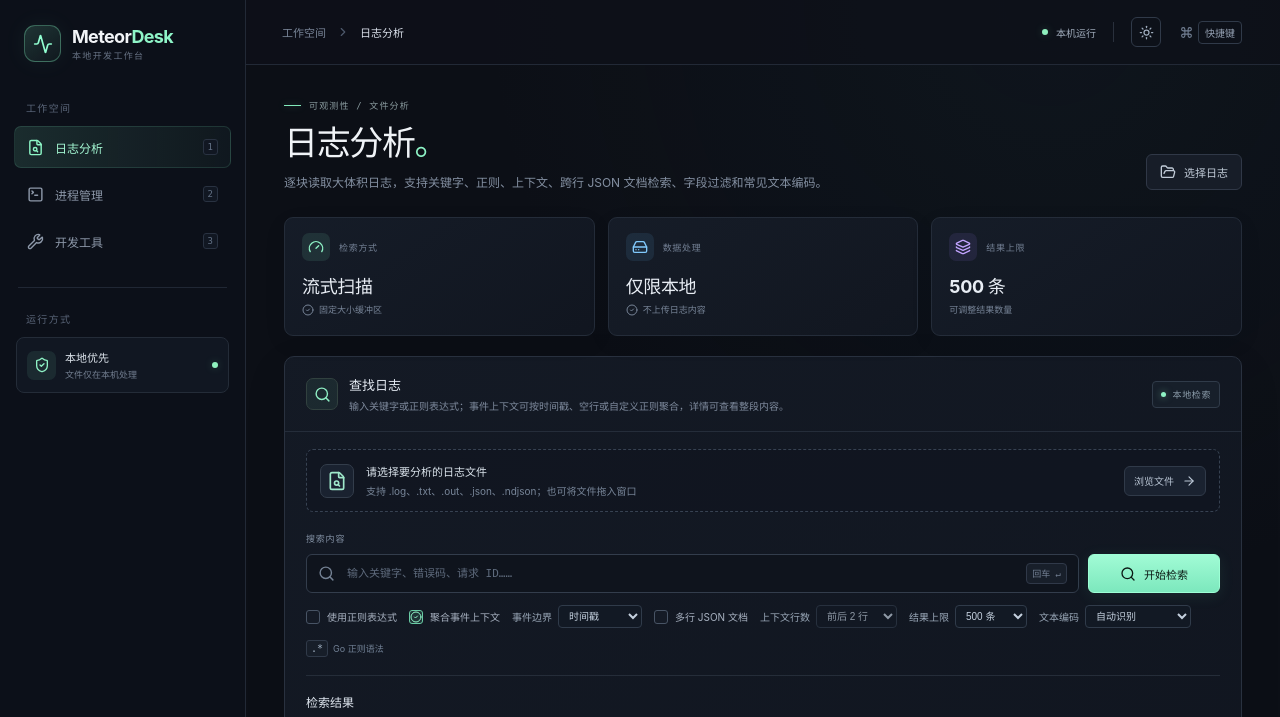
Test case: log search options › filters, sorts and highlights the current results
Click the button "选择日志": (1194, 172) [1146,154,1242,190]
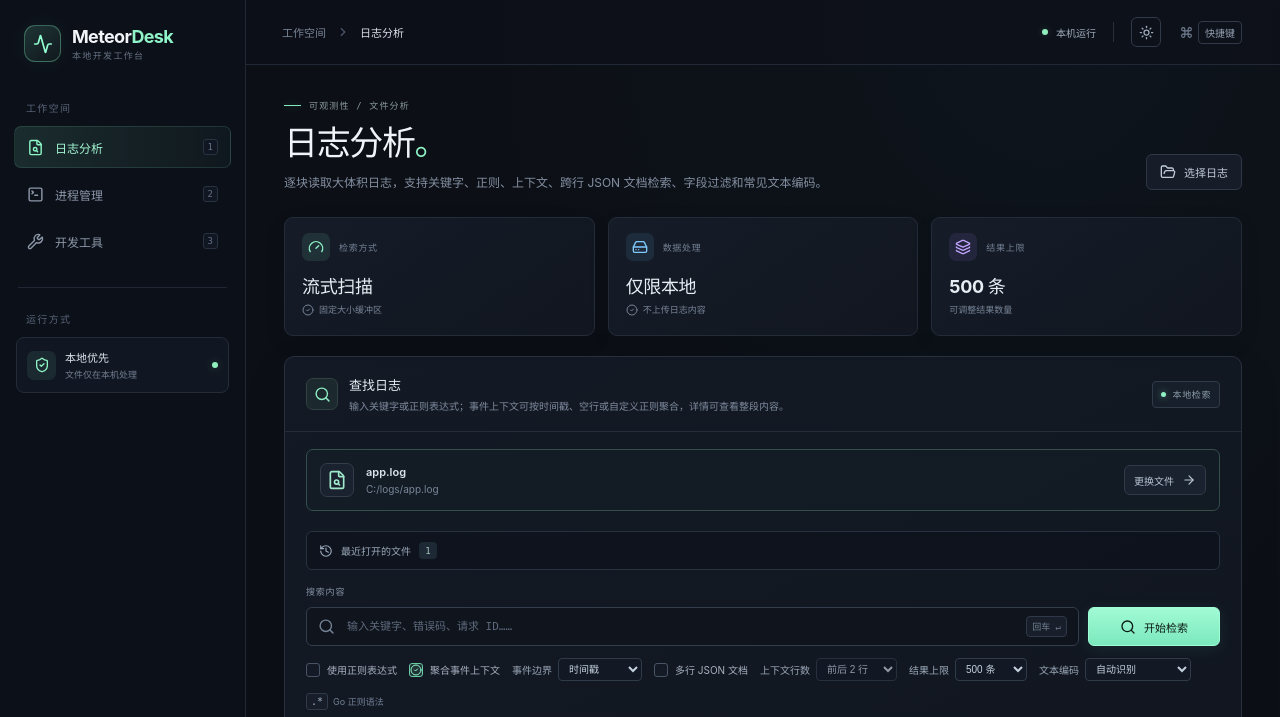
In the field with id "search-query": (681, 627) [345,608,1016,645], type "boom"
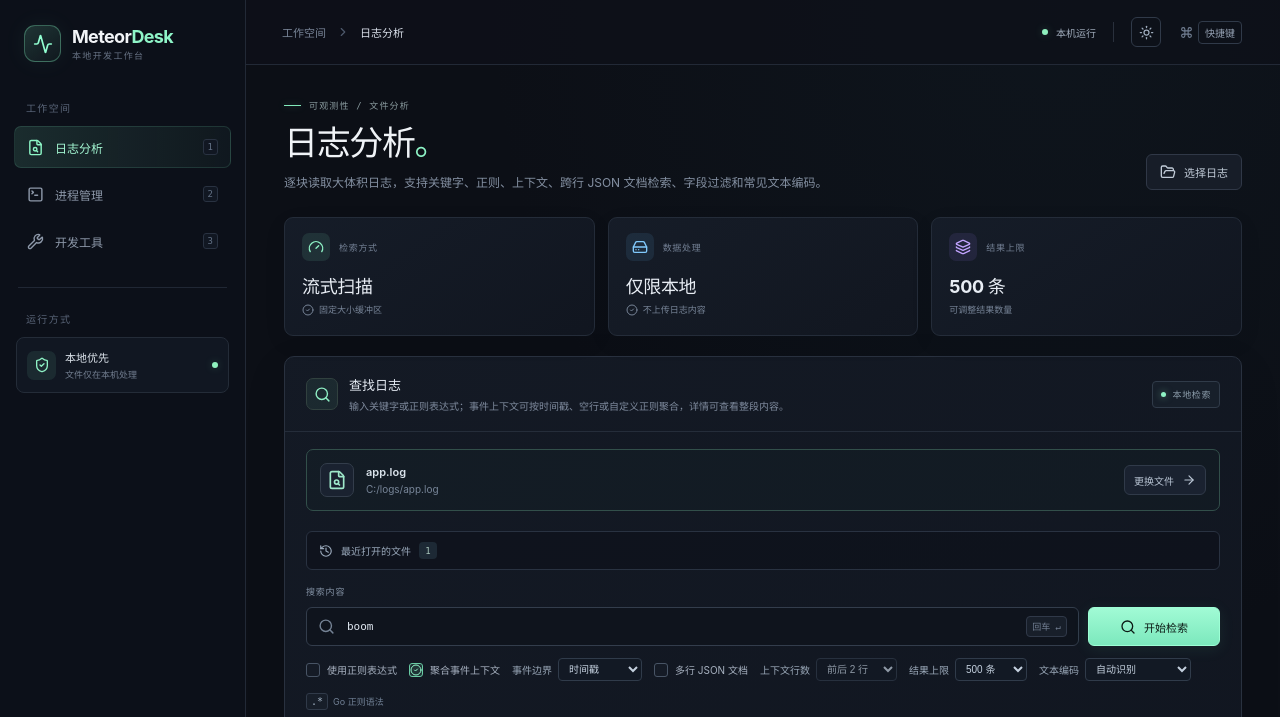
Click the submit button: (1154, 627) [1088,607,1220,646]
(page scrolled)
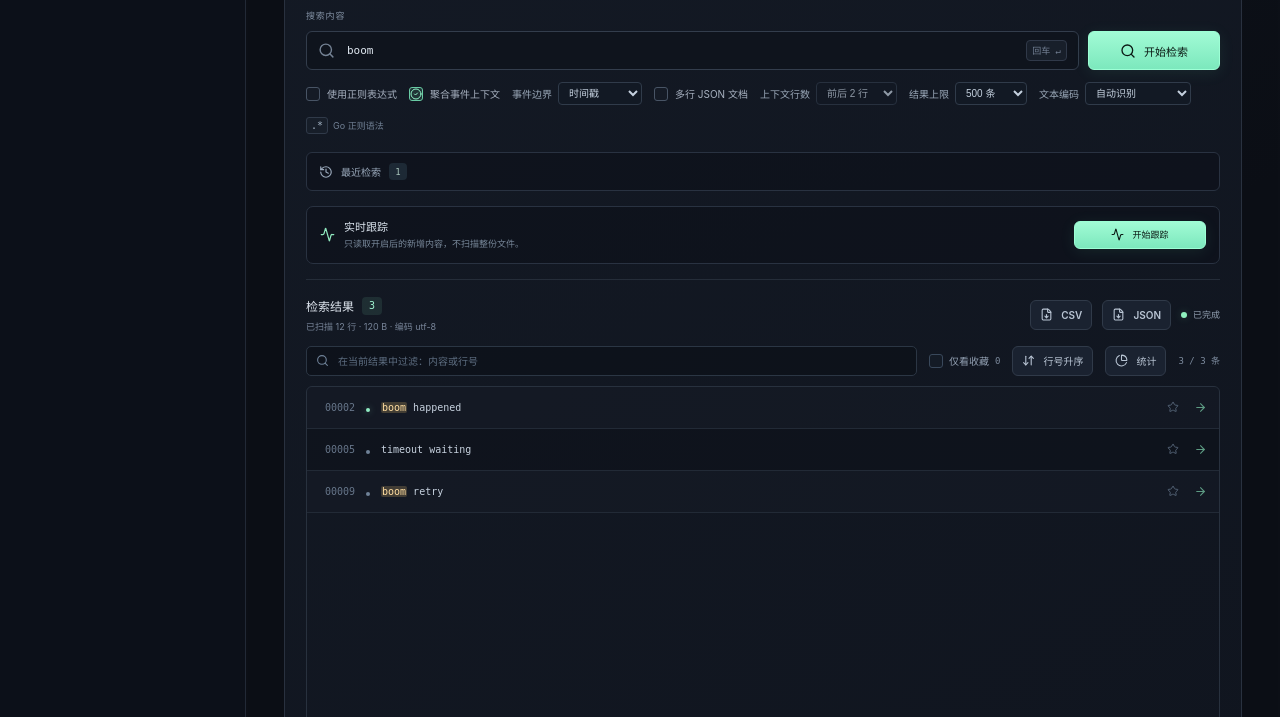
Now the number of buttons with class "result-row" is 3, box [307,386,1219,428]; [307,428,1219,470]; [307,470,1219,512]
Now the text with class "filter-summary" reads "3 / 3 条", box [1178,356,1220,366]
In the field with placeholder "在当前结果中过滤：内容或行号": (622, 360) [336,346,907,374], type "timeout"
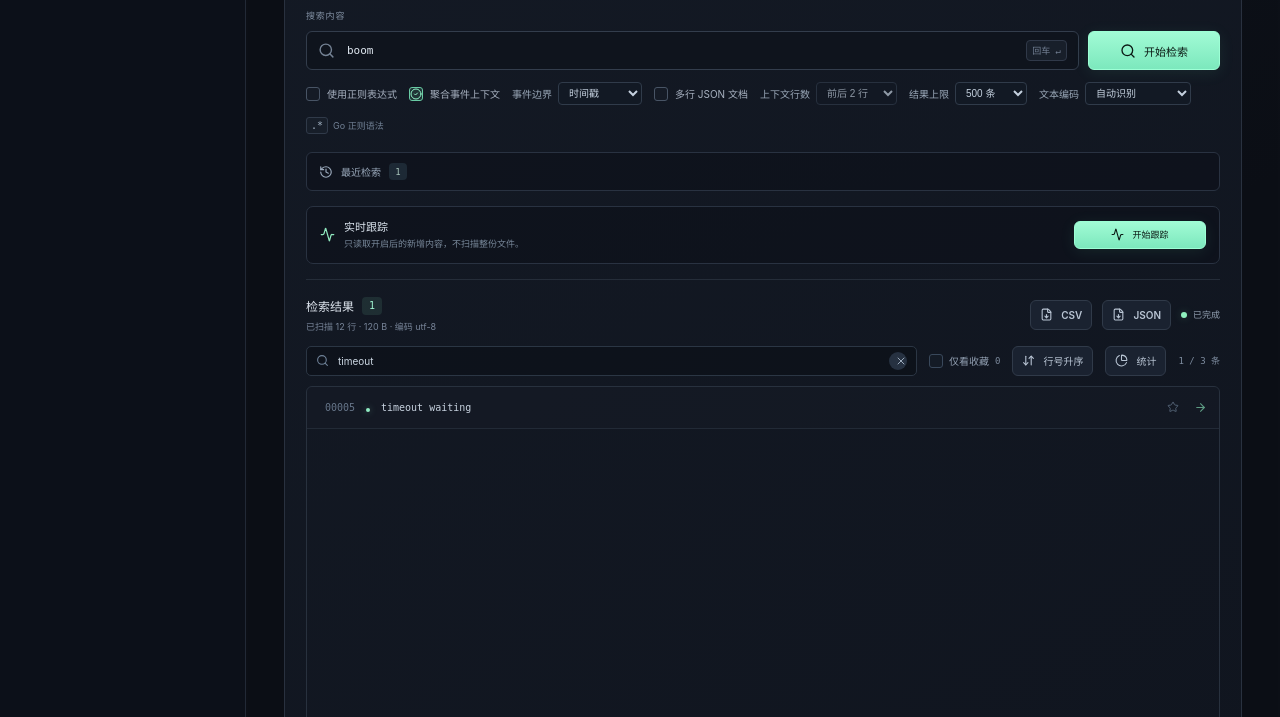
Now the button with class "result-row" shows "timeout waiting", box [307,386,1219,428]
Now the number of buttons with class "result-row" is 1, box [307,386,1219,428]
Now the text with class "filter-summary" reads "1 / 3 条", box [1178,356,1220,366]
Clear the field named "过滤检索结果": (609, 360) [336,346,882,374]
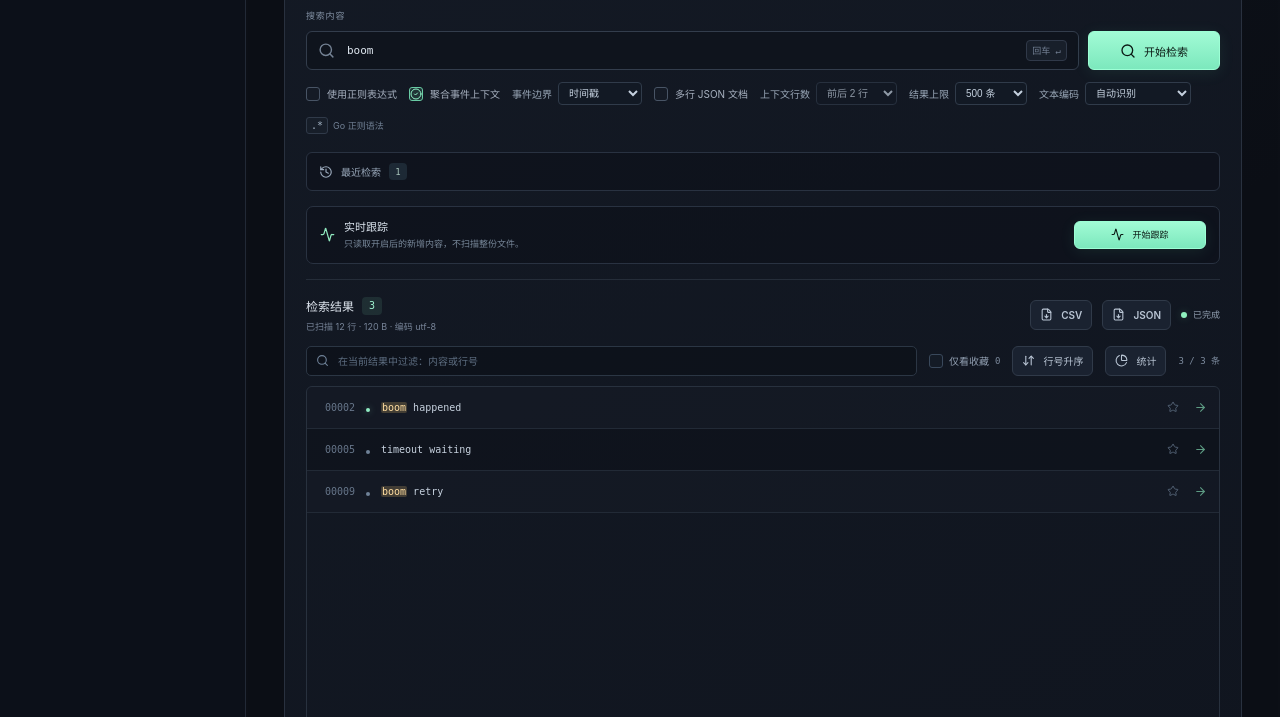
Click the button with class "sort-button": (1053, 360) [1012,346,1094,376]
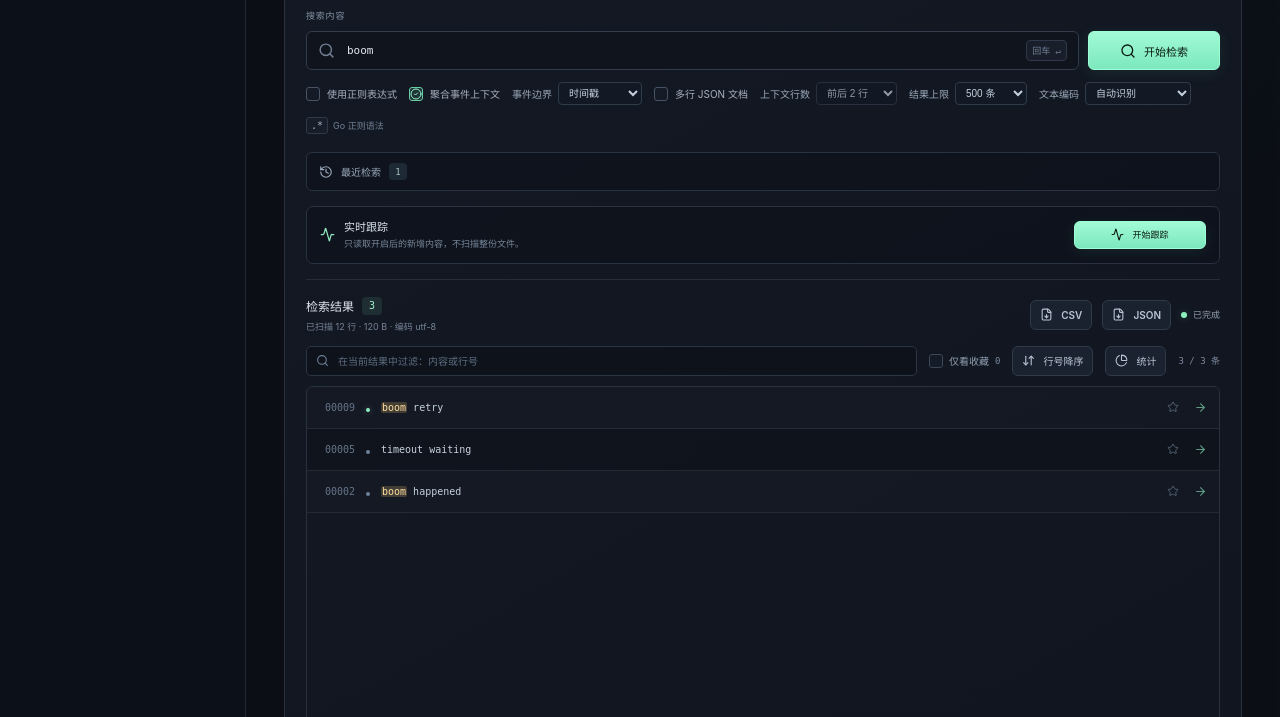
Now the button with class "sort-button" reads "行号降序", box [1012,346,1094,376]
Now the elements with class "line-number" read "00009", "00005", "00002", in this order, box [325,402,355,413]; [325,444,355,455]; [325,486,355,497]
